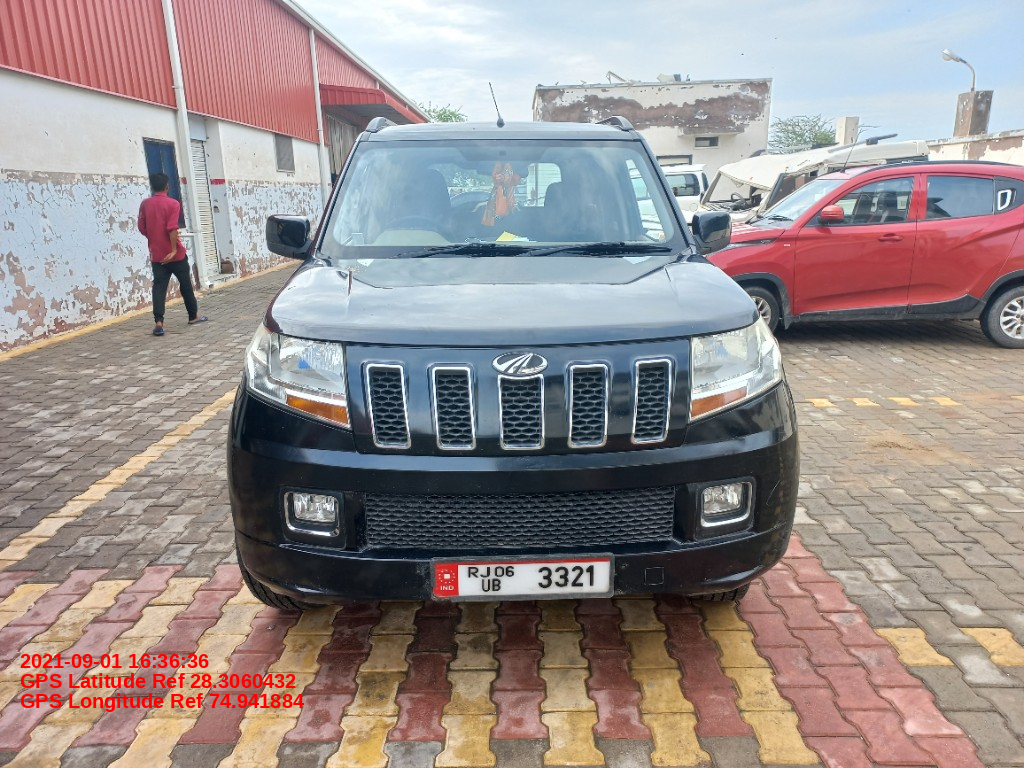Scratched: (763, 443, 794, 568), (614, 554, 645, 598), (682, 577, 743, 599), (410, 562, 431, 601), (294, 580, 330, 601)
